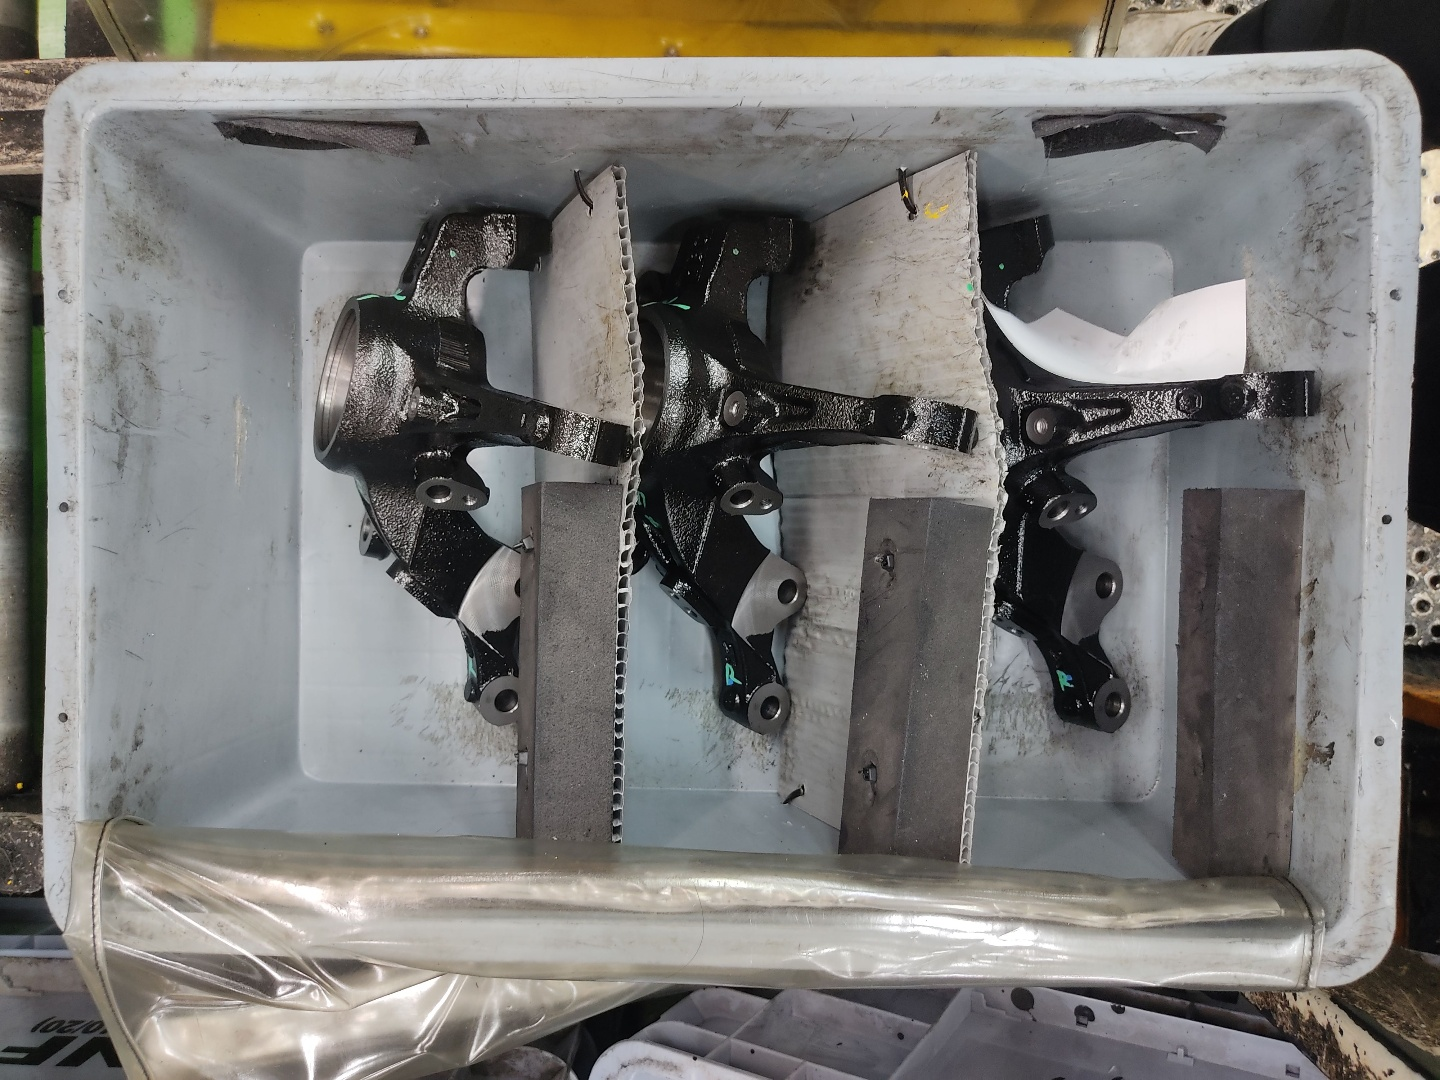abs-rh: (979, 197, 1328, 749), (626, 203, 981, 745), (310, 203, 626, 734)
